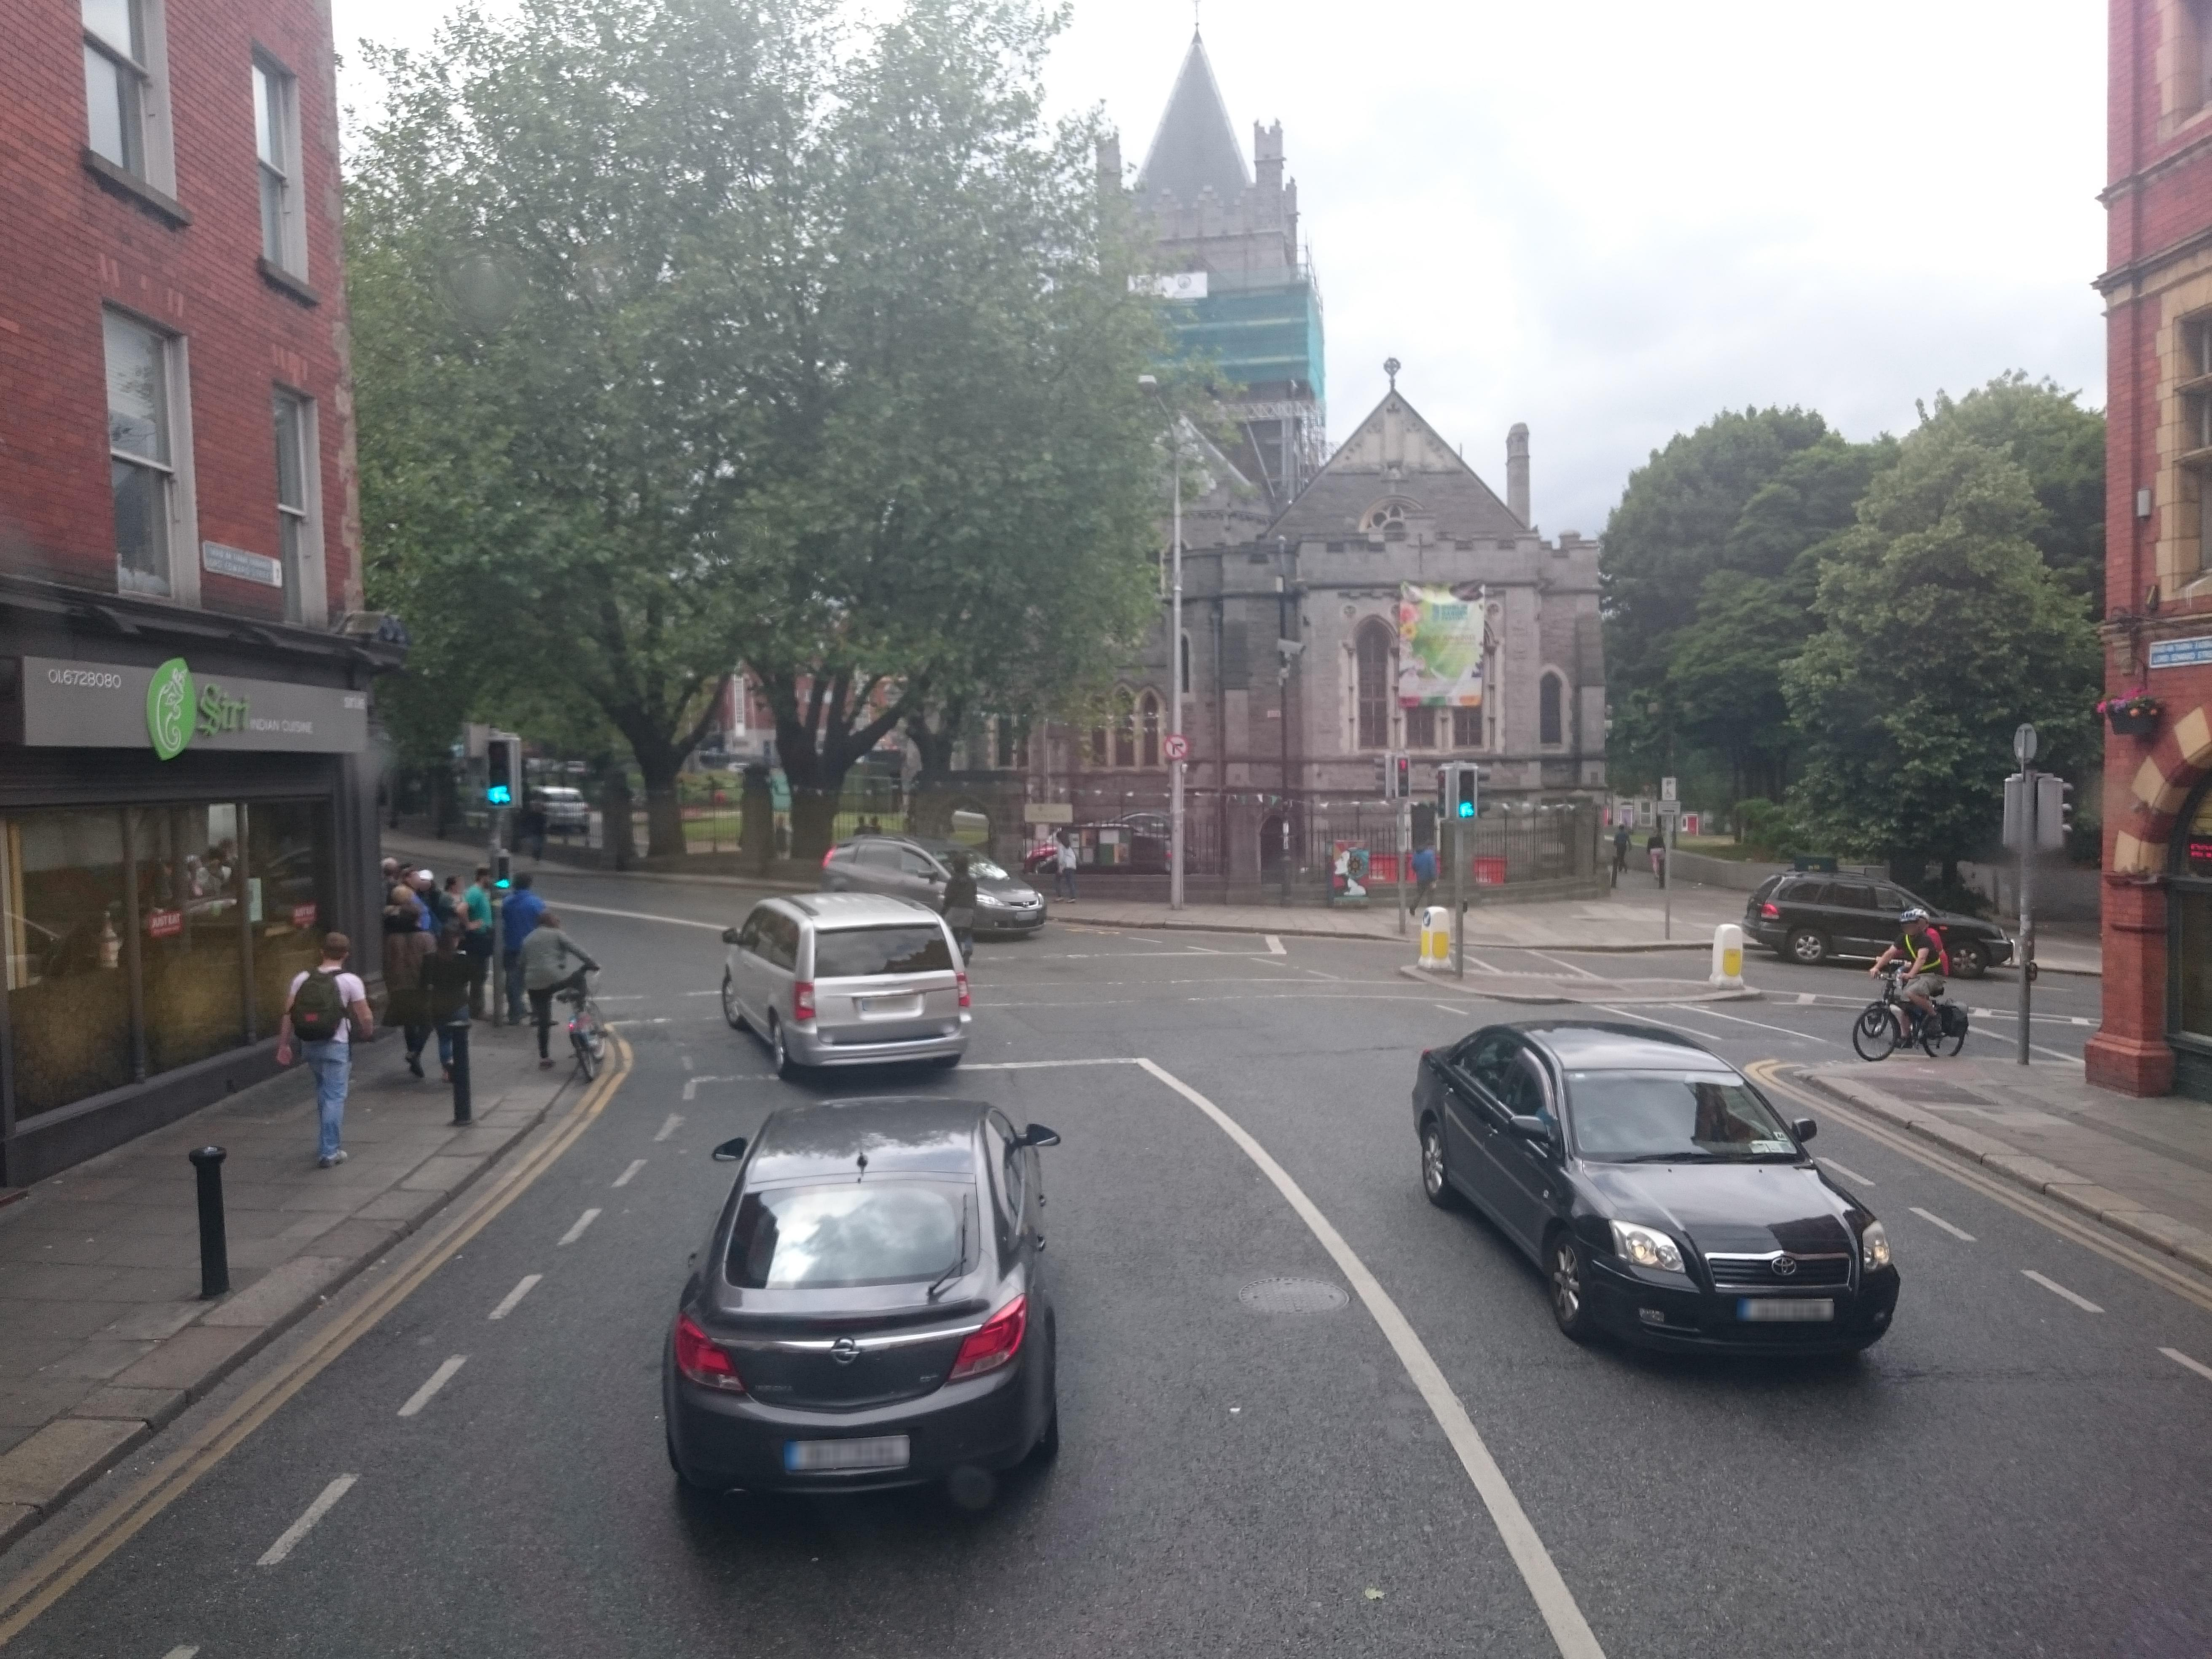vinyl banner: (1386, 565, 1498, 734)
